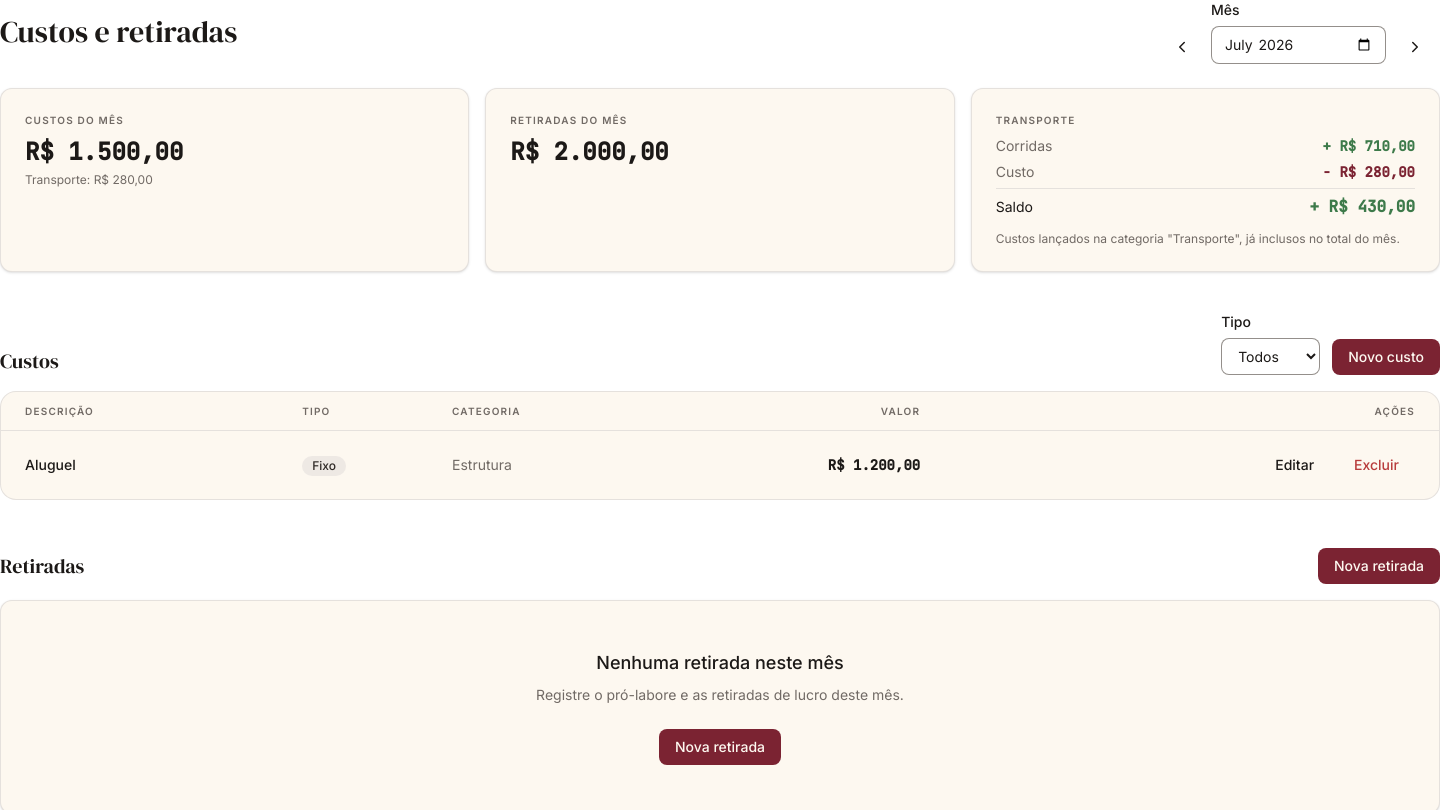
Test case: Financeiro › excluir confirmado remove o custo
Expected: the text "Aluguel" is shown, [25,456,76,473]
Click the button "Excluir". click: (1377, 465)
box: [1338,447,1415,483]
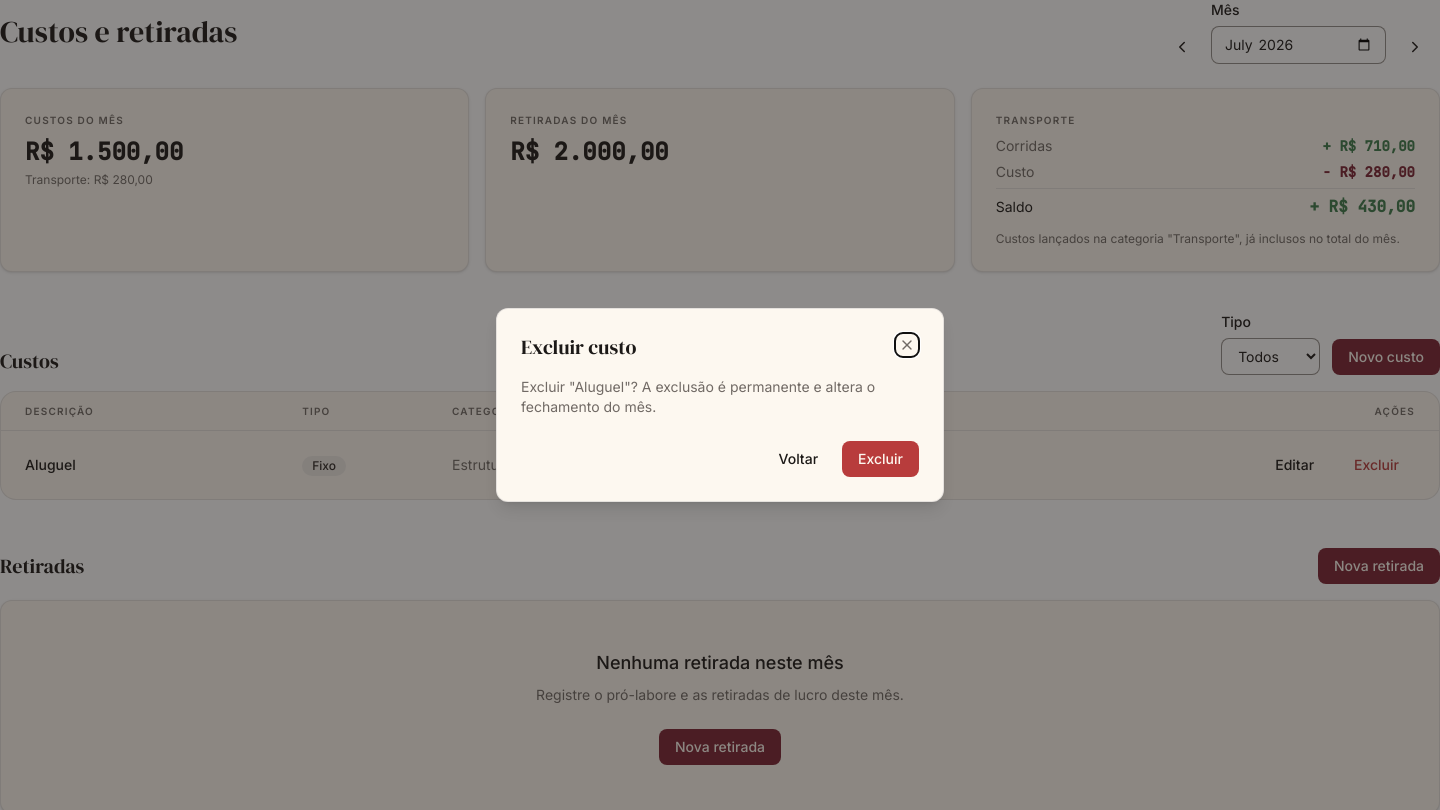
Click the button "Excluir". click: (881, 459)
box: [842,441,919,477]
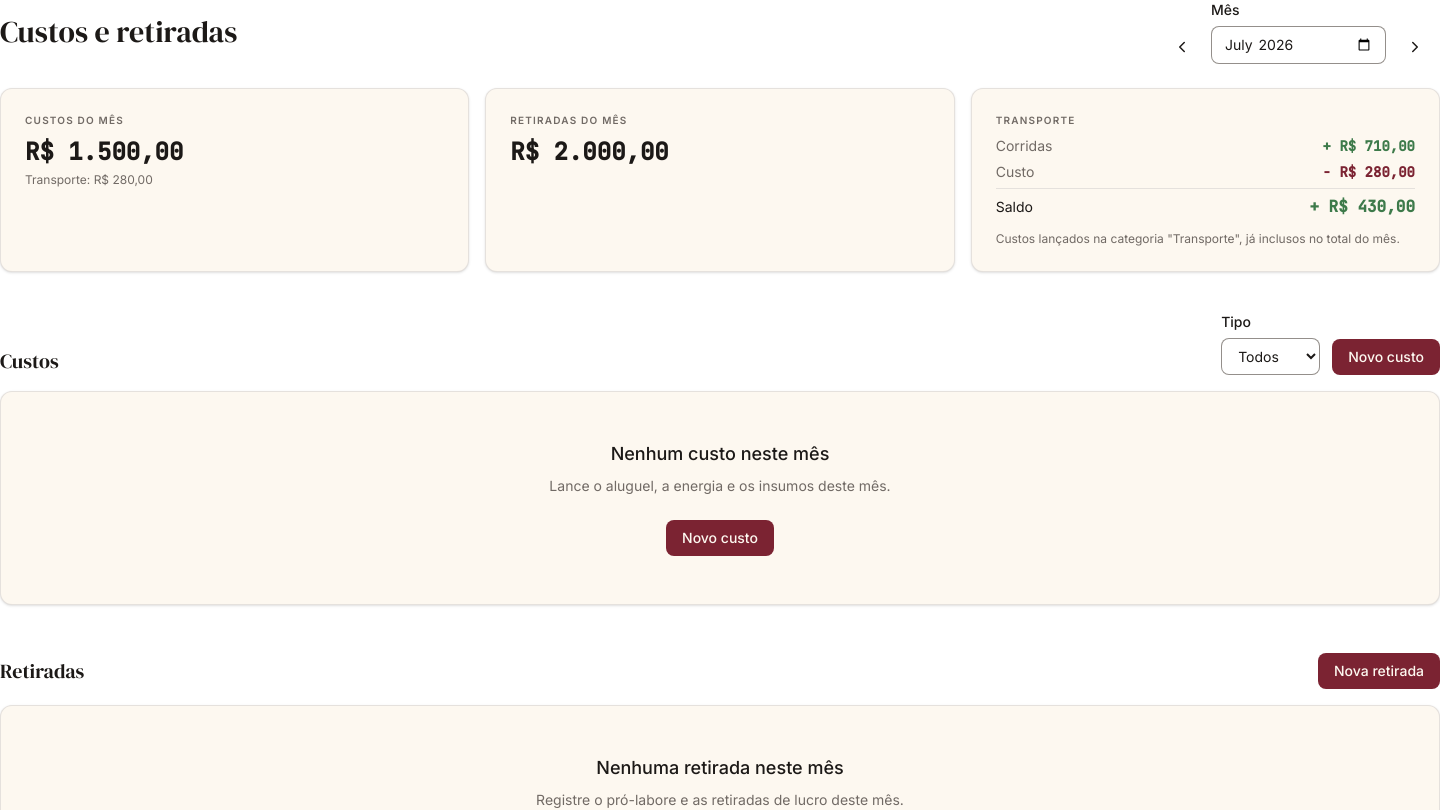
Result: the text "Nenhum custo neste mês" is shown at [611,440,829,468]
